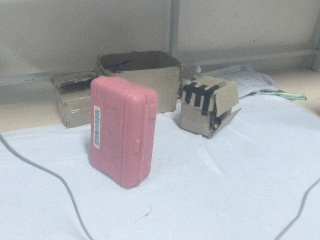box: (88, 74, 157, 190), (94, 52, 180, 118), (180, 76, 238, 137), (51, 71, 98, 130)
